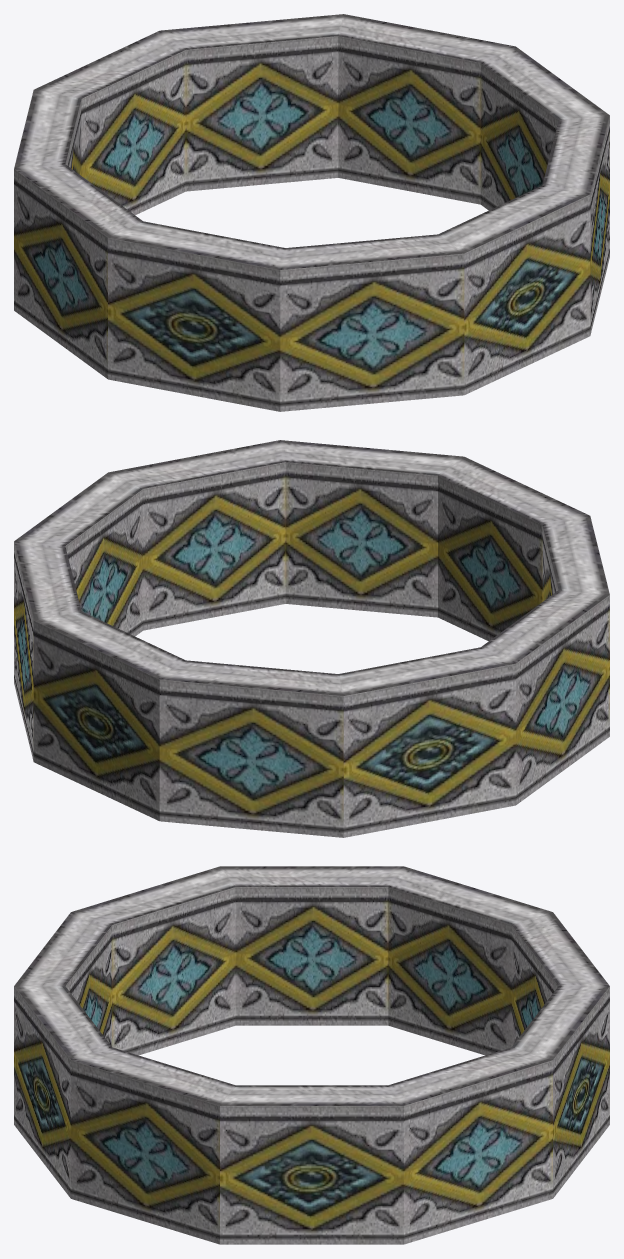
File: ITRI_PROT_EDGE_02.glb
3 renders of one model, top to bottom at view 1: azimuth 30°, elevation 25°; view 2: azimuth 150°, elevation 25°; view 3: azimuth 270°, elevation 25°, orthographic. The views are drawn at different scales.
Visible parts, largest first — view 1: ITRI_PROT_EDGE_02; view 2: ITRI_PROT_EDGE_02; view 3: ITRI_PROT_EDGE_02.
Part boxes in pixels (x1,y1,x2,y2): ITRI_PROT_EDGE_02: [14, 14, 609, 411]; ITRI_PROT_EDGE_02: [14, 440, 609, 837]; ITRI_PROT_EDGE_02: [14, 866, 609, 1244].
Bounding box in the file's own units: 0.0624 × 0.0169 × 0.0657.
1 material, 1 textured.
